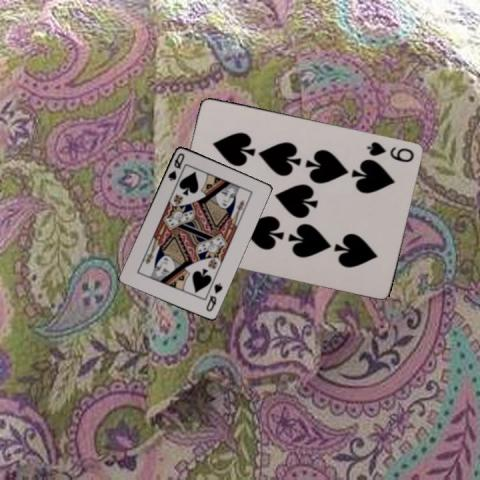9s: (364, 138, 416, 163)
Qs: (165, 149, 186, 182), (203, 280, 224, 312)
